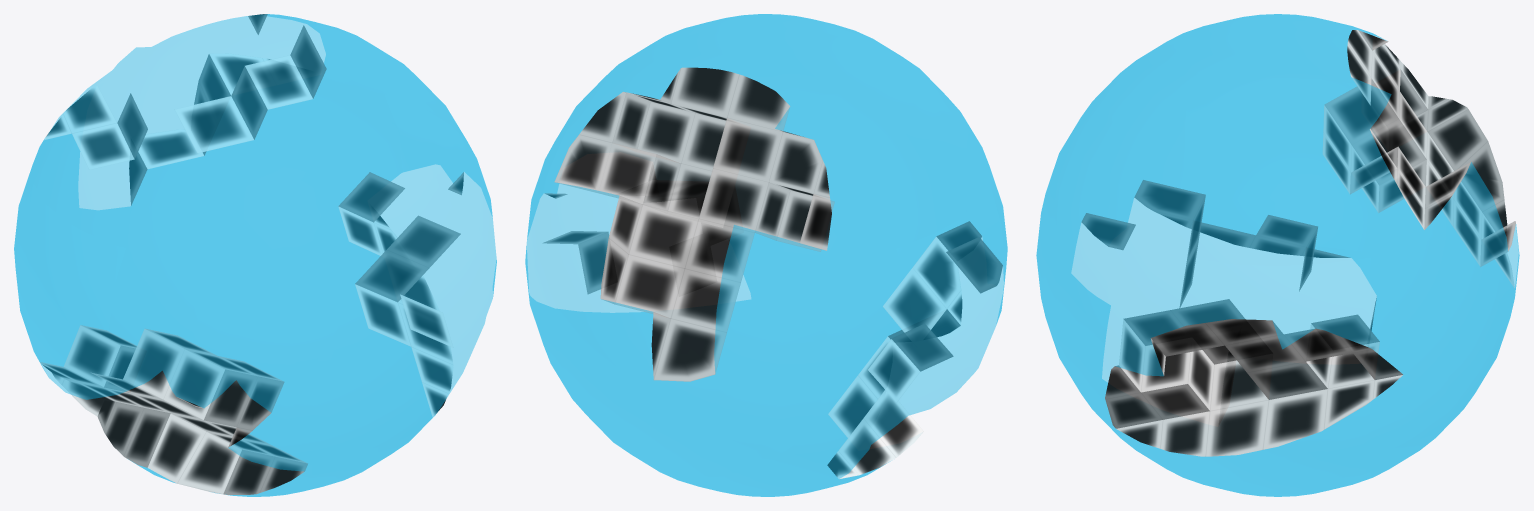
The model's file is p_mesh_controlstation_hologram_planet01.fbx.
The picture shows the model from 3 angles, left to right: view 1: azimuth 30°, elevation 25°; view 2: azimuth 150°, elevation 25°; view 3: azimuth 270°, elevation 25°; orthographic projection.
Visible parts, largest first — view 1: Planet.003; view 2: Planet.003; view 3: Planet.003.
Part boxes in pixels (x1=…): Planet.003: x1=14, y1=14, x2=496, y2=496; Planet.003: x1=525, y1=14, x2=1007, y2=496; Planet.003: x1=1036, y1=14, x2=1519, y2=496.
Bounding box in the file's own units: 1.99 × 2 × 2.
2 materials, 1 textured.
